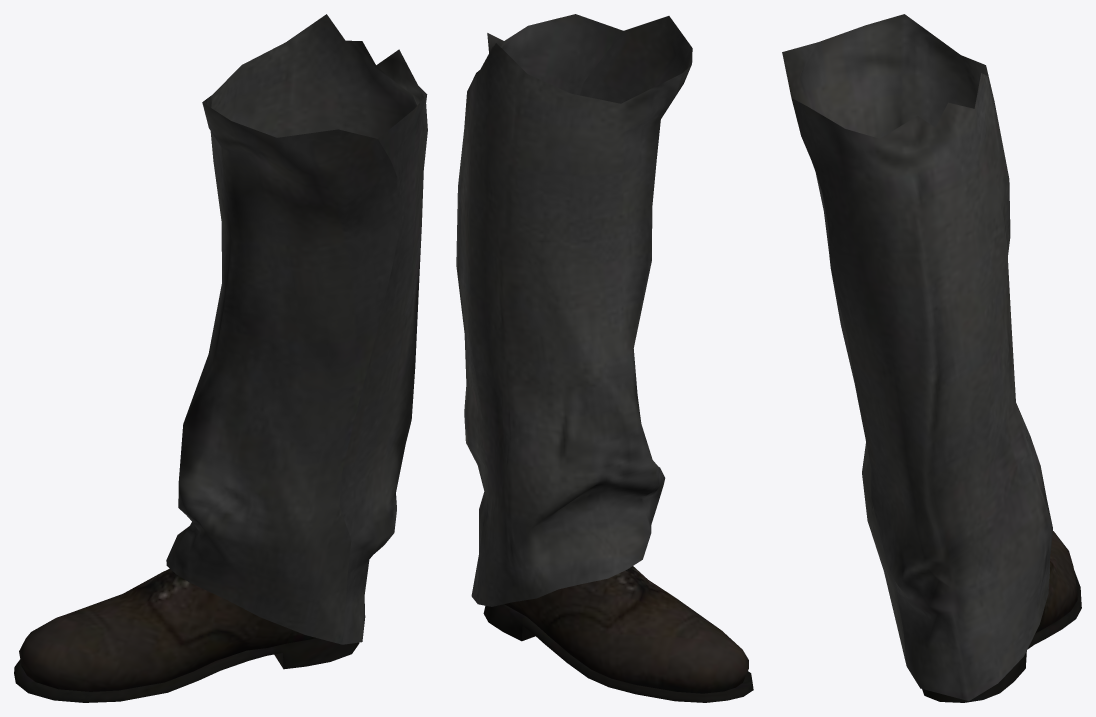
The model's file is Alumno2SubRightLeg.obj.
3 views of the same model, side by side, from view 1: azimuth 30°, elevation 25°; view 2: azimuth 150°, elevation 25°; view 3: azimuth 270°, elevation 25° (orthographic). The views are drawn at different scales.
Parts seen in each view (by area): view 1: Alumno2SubRightLeg; view 2: Alumno2SubRightLeg; view 3: Alumno2SubRightLeg.
Boxes of the visible parts, x1,y1,x2,y2 form: Alumno2SubRightLeg: (14, 14, 427, 702); Alumno2SubRightLeg: (456, 14, 753, 702); Alumno2SubRightLeg: (782, 14, 1081, 702).
Bounding box in the file's own units: 0.4457 × 0.7443 × 0.3223.
1 material, 1 textured.
